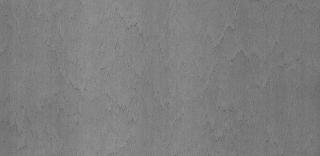silk spot: (192, 16, 300, 134)
